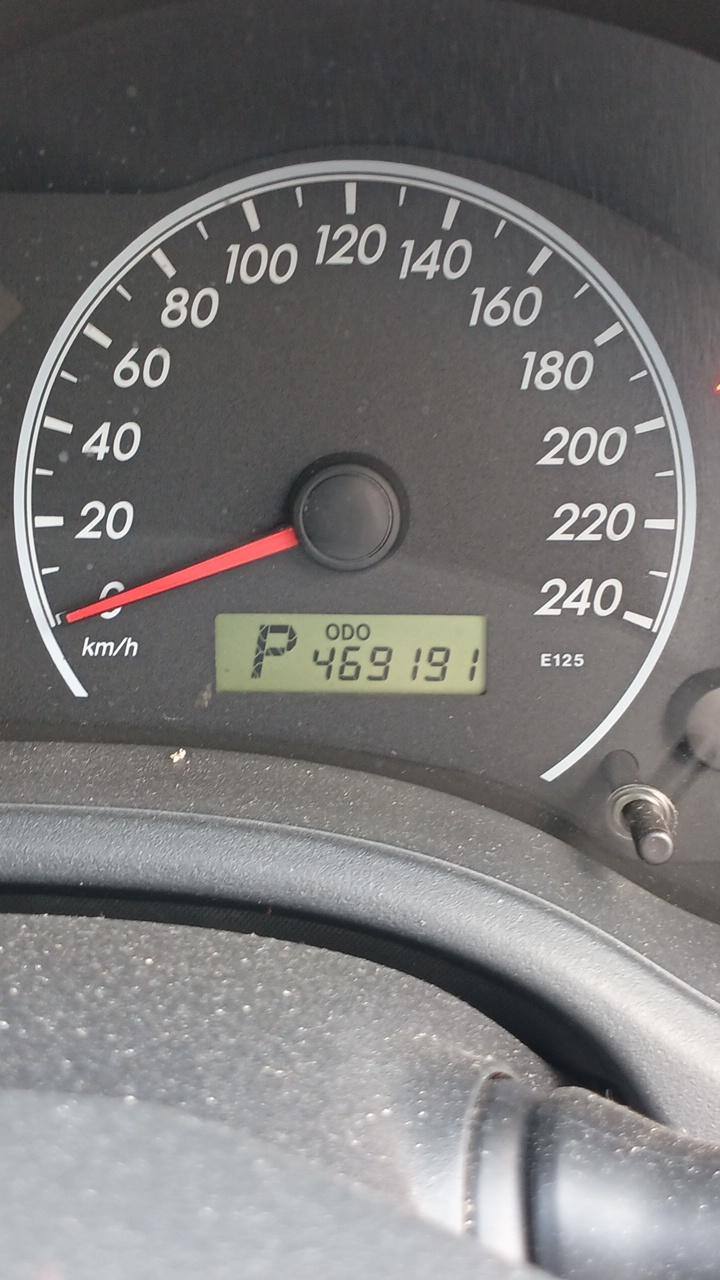1: (409, 647, 422, 682), (467, 648, 480, 682)
4: (311, 646, 336, 681)
6: (339, 646, 362, 681)
9: (424, 647, 451, 681), (367, 646, 393, 681)
X: (250, 623, 296, 681), (325, 623, 340, 641), (356, 623, 371, 641), (342, 623, 355, 641)
odometer: (214, 612, 487, 696)
